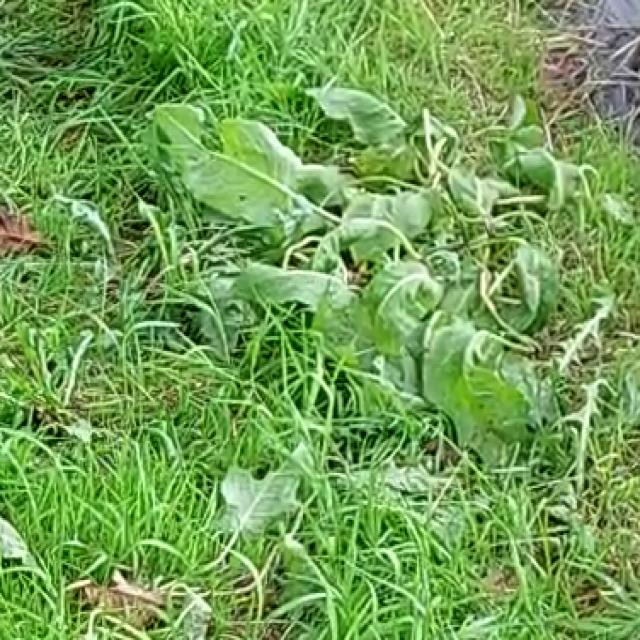organic waste: (192, 68, 591, 414)
